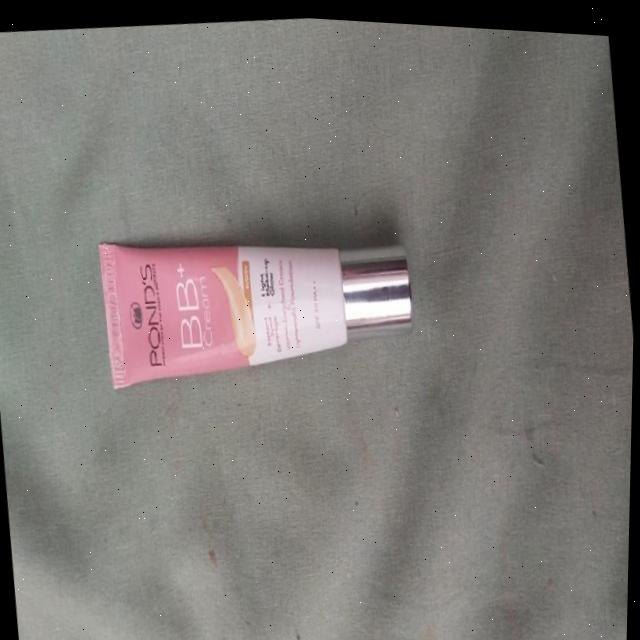bb cream: (78, 167, 447, 462)
